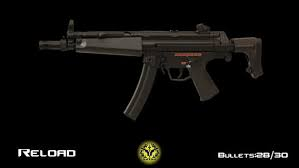gun: (31, 18, 264, 119)
